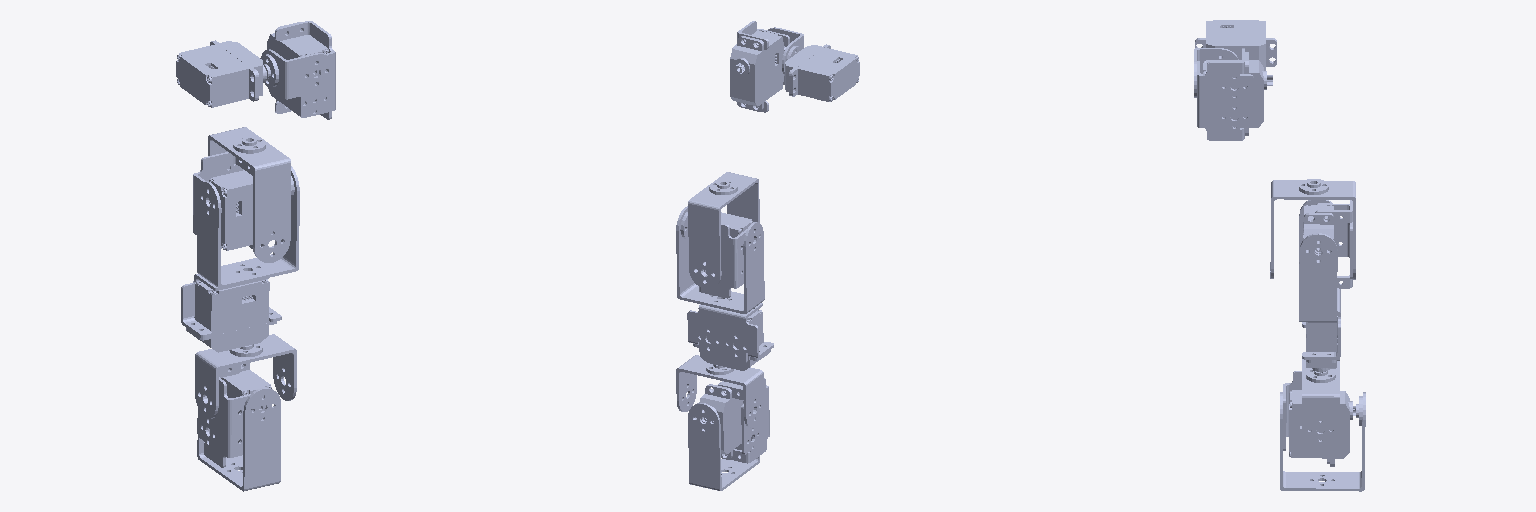
The robot description file, URDF, robot "arm_assembly_6":
<?xml version="1.0" encoding="utf-8"?>
<!-- This URDF was automatically created by SolidWorks to URDF Exporter! Originally created by [author] ([email redacted]) 
     Commit Version: 1.6.0-1-g15f4949  Build Version: 1.6.7594.29634
     For more information, please see http://wiki.ros.org/sw_urdf_exporter -->
<robot
  name="arm_assembly_6">
  <link
    name="dummy_link">
  </link>
  <link
    name="base_link">
    <inertial>
      <origin
        xyz="0.018792 0.01999 -0.010001"
        rpy="0 0 0" />
      <mass
        value="0.031905" />
      <inertia
        ixx="5.4828E-06"
        ixy="8.0892E-08"
        ixz="9.1152E-11"
        iyy="5.2647E-06"
        iyz="-2.6656E-10"
        izz="8.6771E-06" />
    </inertial>
    <visual>
      <origin
        xyz="0 0 0"
        rpy="0 0 0" />
      <geometry>
        <mesh
          filename="package://arm_assembly_6/meshes/base_link.STL" />
      </geometry>
      <material
        name="">
        <color
          rgba="0.79216 0.81961 0.93333 1" />
      </material>
    </visual>
    <collision>
      <origin
        xyz="0 0 0"
        rpy="0 0 0" />
      <geometry>
        <mesh
          filename="package://arm_assembly_6/meshes/base_link.STL" />
      </geometry>
    </collision>
  </link>
  <joint
    name="dummy_joint"
    type="fixed">
    <parent
      link="dummy_link"/>
    <child
      link="base_link"/>
  </joint>
  <link
    name="link1">
    <inertial>
      <origin
        xyz="0.0086911 0.0060945 0.027002"
        rpy="1.57 1.57 0" />
      <mass
        value="0.04101" />
      <inertia
        ixx="9.4621E-06"
        ixy="-3.7028E-07"
        ixz="-5.3537E-07"
        iyy="9.1864E-06"
        iyz="-5.2348E-07"
        izz="1.2798E-05" />
    </inertial>
    <visual>
      <origin
        xyz="0 0 0"
        rpy="0 0 0" />
      <geometry>
        <mesh
          filename="package://arm_assembly_6/meshes/link1.STL" />
      </geometry>
      <material
        name="">
        <color
          rgba="0.79216 0.81961 0.93333 1" />
      </material>
    </visual>
    <collision>
      <origin
        xyz="0 0 0"
        rpy="0 0 0" />
      <geometry>
        <mesh
          filename="package://arm_assembly_6/meshes/link1.STL" />
      </geometry>
    </collision>
  </link>
  <joint
    name="joint1"
    type="revolute">
    <origin
      xyz="0.043 0.010099 -0.010156"
      rpy="-1.5708 1.567 -1.5708" />
    <parent
      link="base_link" />
    <child
      link="link1" />
    <axis
      xyz="0 0 1" />
    <limit
      lower="0"
      upper="3.1415"
      effort="0"
      velocity="0" />
  </joint>
  <link
    name="link2">
    <inertial>
      <origin
        xyz="-0.0035099 0.043261 0.034631"
        rpy="0 0 0" />
      <mass
        value="0.044197" />
      <inertia
        ixx="3.3374E-05"
        ixy="1.0834E-06"
        ixz="5.9798E-07"
        iyy="1.2428E-05"
        iyz="-7.3005E-06"
        izz="2.4892E-05" />
    </inertial>
    <visual>
      <origin
        xyz="0 0 0"
        rpy="0 0 0" />
      <geometry>
        <mesh
          filename="package://arm_assembly_6/meshes/link2.STL" />
      </geometry>
      <material
        name="">
        <color
          rgba="0.79216 0.81961 0.93333 1" />
      </material>
    </visual>
    <collision>
      <origin
        xyz="0 0 0"
        rpy="0 0 0" />
      <geometry>
        <mesh
          filename="package://arm_assembly_6/meshes/link2.STL" />
      </geometry>
    </collision>
  </link>
  <joint
    name="joint2"
    type="revolute">
    <origin
      xyz="-0.00052573 0.032998 0.027656"
      rpy="-1.5746 -1.5708 0" />
    <parent
      link="link1" />
    <child
      link="link2" />
    <axis
      xyz="0 0 1" />
    <limit
      lower="-1.5708"
      upper="1.5708"
      effort="0"
      velocity="0" />
  </joint>
  <link
    name="link3">
    <inertial>
      <origin
        xyz="-0.0013502 -0.0048384 0.040737"
        rpy="0 0 0" />
      <mass
        value="0.046897" />
      <inertia
        ixx="2.1054E-05"
        ixy="-7.094E-07"
        ixz="3.5074E-07"
        iyy="1.9131E-05"
        iyz="9.6626E-07"
        izz="1.3945E-05" />
    </inertial>
    <visual>
      <origin
        xyz="0 0 0"
        rpy="0 0 0" />
      <geometry>
        <mesh
          filename="package://arm_assembly_6/meshes/link3.STL" />
      </geometry>
      <material
        name="">
        <color
          rgba="0.79216 0.81961 0.93333 1" />
      </material>
    </visual>
    <collision>
      <origin
        xyz="0 0 0"
        rpy="0 0 0" />
      <geometry>
        <mesh
          filename="package://arm_assembly_6/meshes/link3.STL" />
      </geometry>
    </collision>
  </link>
  <joint
    name="joint3"
    type="revolute">
    <origin
      xyz="-0.0035812 0.076462 0.028599"
      rpy="-1.5708 0 0.012103" />
    <parent
      link="link2" />
    <child
      link="link3" />
    <axis
      xyz="0 0 1" />
    <limit
      lower="-1.5708"
      upper="1.5708"
      effort="0"
      velocity="0" />
  </joint>
  <link
    name="link4">
    <inertial>
      <origin
        xyz="-0.0028126 0.066034 -0.029727"
        rpy="0 0 0" />
      <mass
        value="0.046897" />
      <inertia
        ixx="3.8337E-05"
        ixy="1.0617E-06"
        ixz="-2.9932E-07"
        iyy="1.4304E-05"
        iyz="4.4588E-06"
        izz="2.8258E-05" />
    </inertial>
    <visual>
      <origin
        xyz="0 0 0"
        rpy="0 0 0" />
      <geometry>
        <mesh
          filename="package://arm_assembly_6/meshes/link4.STL" />
      </geometry>
      <material
        name="">
        <color
          rgba="0.79216 0.81961 0.93333 1" />
      </material>
    </visual>
    <collision>
      <origin
        xyz="0 0 0"
        rpy="0 0 0" />
      <geometry>
        <mesh
          filename="package://arm_assembly_6/meshes/link4.STL" />
      </geometry>
    </collision>
  </link>
  <joint
    name="joint4"
    type="revolute">
    <origin
      xyz="0.023994 -0.0033845 0.035099"
      rpy="1.5708 0 1.5691" />
    <parent
      link="link3" />
    <child
      link="link4" />
    <axis
      xyz="0 0 1" />
    <limit
      lower="-1.5708"
      upper="1.5708"
      effort="0"
      velocity="0" />
  </joint>
  <link
    name="link5">
    <inertial>
      <origin
        xyz="0.0051339 -0.0014331 0.035909"
        rpy="0 0 0" />
      <mass
        value="0.044197" />
      <inertia
        ixx="1.6768E-05"
        ixy="6.8764E-07"
        ixz="-9.2737E-07"
        iyy="1.6802E-05"
        iyz="3.3996E-07"
        izz="1.1763E-05" />
    </inertial>
    <visual>
      <origin
        xyz="0 0 0"
        rpy="0 0 0" />
      <geometry>
        <mesh
          filename="package://arm_assembly_6/meshes/link5.STL" />
      </geometry>
      <material
        name="">
        <color
          rgba="0.79216 0.81961 0.93333 1" />
      </material>
    </visual>
    <collision>
      <origin
        xyz="0 0 0"
        rpy="0 0 0" />
      <geometry>
        <mesh
          filename="package://arm_assembly_6/meshes/link5.STL" />
      </geometry>
    </collision>
  </link>
  <joint
    name="joint5"
    type="revolute">
    <origin
      xyz="-0.0023444 0.101 -0.022099"
      rpy="1.5708 1.5691 -3.1416" />
    <parent
      link="link4" />
    <child
      link="link5" />
    <axis
      xyz="0 0 1" />
    <limit
      lower="-1.5708"
      upper="1.5708"
      effort="0"
      velocity="0" />
  </joint>
  <link
    name="link6">
    <inertial>
      <origin
        xyz="-0.00042637 0.028181 -0.020504"
        rpy="0 0 0" />
      <mass
        value="0.009246" />
      <inertia
        ixx="9.4951E-06"
        ixy="5.5353E-08"
        ixz="-7.868E-09"
        iyy="5.8374E-06"
        iyz="5.2004E-07"
        izz="4.5813E-06" />
    </inertial>
    <visual>
      <origin
        xyz="0 0 0"
        rpy="0 0 0" />
      <geometry>
        <mesh
          filename="package://arm_assembly_6/meshes/link6.STL" />
      </geometry>
      <material
        name="">
        <color
          rgba="0.79216 0.81961 0.93333 1" />
      </material>
    </visual>
    <collision>
      <origin
        xyz="0 0 0"
        rpy="0 0 0" />
      <geometry>
        <mesh
          filename="package://arm_assembly_6/meshes/link6.STL" />
      </geometry>
    </collision>
  </link>
  <joint
    name="joint6"
    type="revolute">
    <origin
      xyz="0.0033864 0.023994 0.030099"
      rpy="1.5708 0.012103 3.1398" />
    <parent
      link="link5" />
    <child
      link="link6" />
    <axis
      xyz="0 0 1" />
    <limit
      lower="-1.5708"
      upper="1.5708"
      effort="0"
      velocity="0" />
  </joint>
</robot>

--- What the picture shows (computed from the rendered views, not written in the file) ---
Views: 3 orthographic renders of the robot side by side, from view 1: azimuth 30°, elevation 25°; view 2: azimuth 150°, elevation 25°; view 3: azimuth 270°, elevation 25°.
Robot: arm_assembly_6 — 8 links, 7 joints (6 revolute, 1 fixed); root link dummy_link; default pose: every joint at zero.
Visible links, largest first — view 1: link4, link3, link5, link1, base_link, link6; view 2: link4, link3, link5, link1, base_link, link6; view 3: link1, link5, link4, link3, base_link, link6.
Link boxes in pixels (x1,y1,x2,y2): link4: [181, 166, 299, 352]; link3: [193, 127, 290, 262]; link5: [195, 334, 296, 467]; link1: [260, 21, 335, 119]; base_link: [176, 40, 266, 107]; link6: [197, 387, 280, 491]; link4: [676, 206, 773, 370]; link3: [688, 172, 759, 298]; link5: [676, 355, 769, 463]; link1: [730, 21, 803, 112]; base_link: [785, 44, 859, 101]; link6: [688, 403, 759, 490]; link1: [1194, 48, 1272, 140]; link5: [1283, 359, 1355, 466]; link4: [1299, 200, 1340, 372]; link3: [1270, 179, 1355, 288]; base_link: [1195, 20, 1276, 70]; link6: [1280, 392, 1365, 491].
Size in the robot's own frame: 0.0978 by 0.1125 by 0.3139 metres.
Meshes: 7 distinct files referenced, 6 mesh visuals loaded (6 binary STL); not drawn: 1 (reference not matched to a file when rendering).